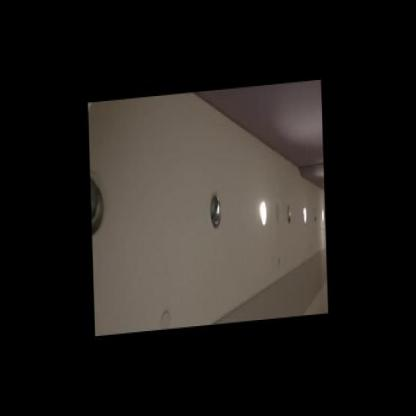light_off: (200, 176, 226, 241), (284, 201, 295, 237), (310, 203, 318, 232)
